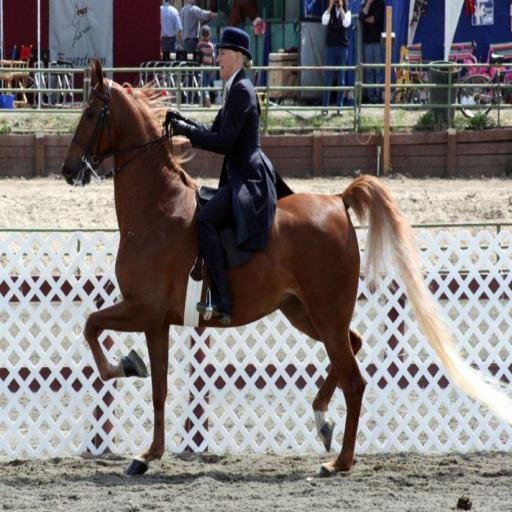horse: (60, 52, 512, 479)
